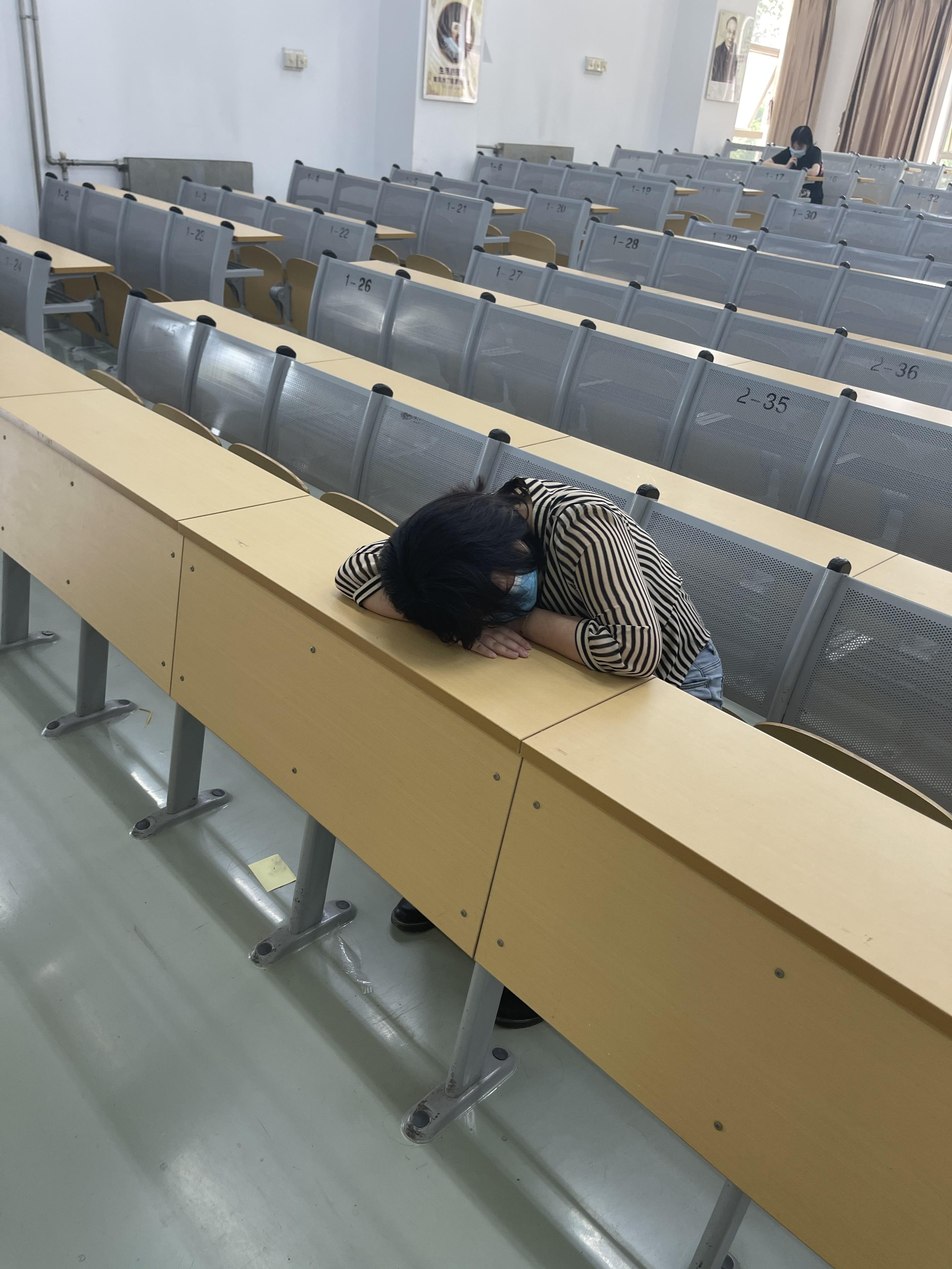sleep: (332, 474, 720, 675)
